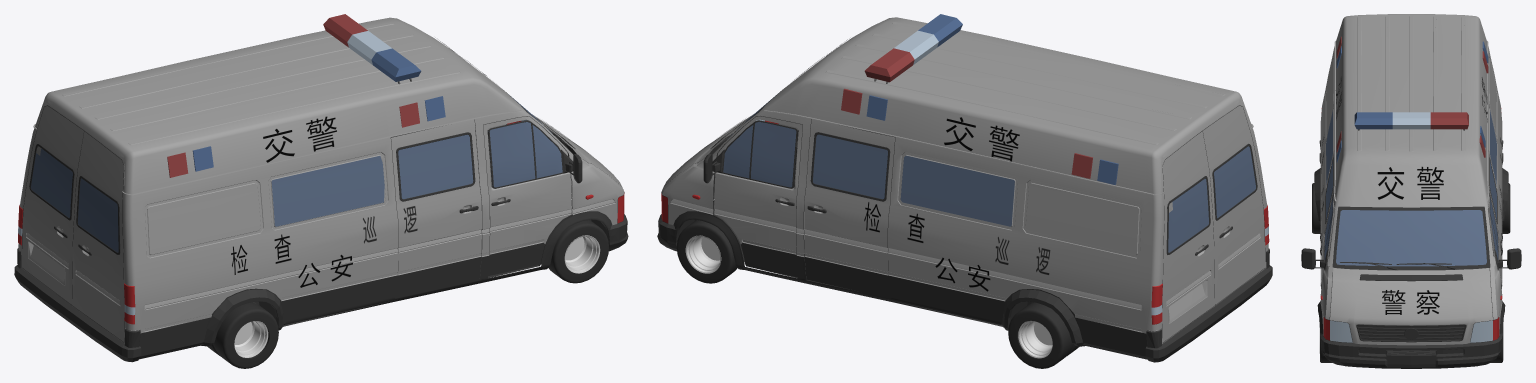
File: POLICECAR.glb
3 renders of one model, left to right at view 1: azimuth 30°, elevation 25°; view 2: azimuth 150°, elevation 25°; view 3: azimuth 270°, elevation 25°, orthographic. The views are drawn at different scales.
Parts seen in each view (by area): view 1: body, Circle002; view 2: body, Circle002; view 3: body, Circle002.
Part boxes in pixels (left/top/right/bottom): body: left=18, top=17, right=624, bottom=343; Circle002: left=14, top=14, right=628, bottom=368; body: left=661, top=17, right=1268, bottom=343; Circle002: left=657, top=14, right=1272, bottom=368; body: left=1320, top=14, right=1502, bottom=345; Circle002: left=1301, top=36, right=1521, bottom=368.
Bounding box in the file's own units: 4.34 × 1.89 × 2.02.
Materials: 15 (5 with a texture image).
